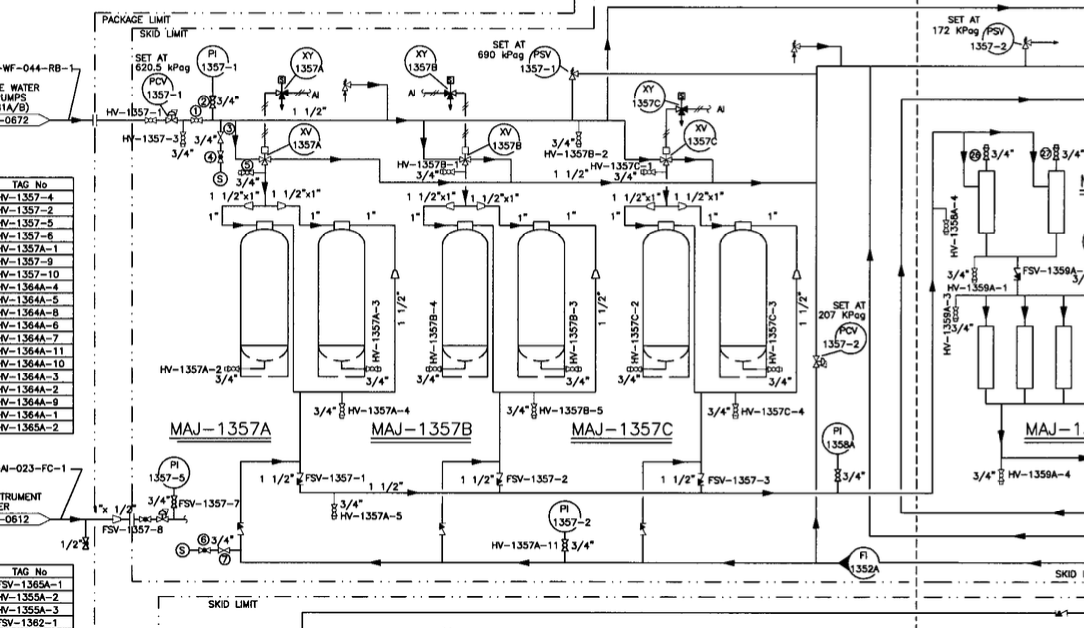Instrument-offset: (542, 499, 598, 535), (678, 117, 726, 158), (190, 44, 246, 79), (517, 43, 566, 80), (822, 319, 869, 357), (971, 23, 1021, 57), (833, 545, 881, 580), (148, 451, 191, 490), (134, 74, 186, 106), (284, 123, 330, 159), (821, 417, 860, 458), (487, 122, 527, 160), (403, 46, 444, 81), (286, 46, 329, 79), (629, 79, 669, 114)
